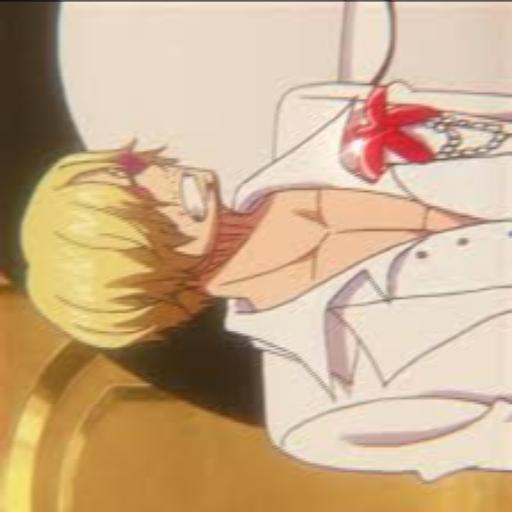sanji: (15, 68, 512, 476)
